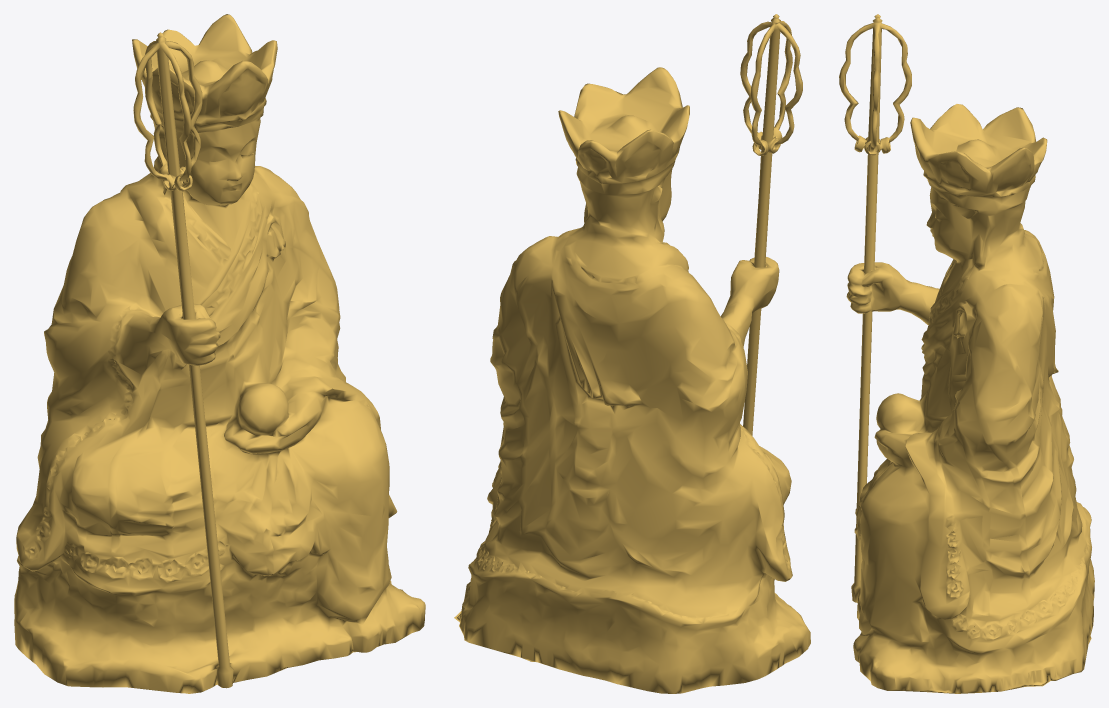
Rendered from center-ksitigarbha-low.glb.
The picture shows the model from 3 angles, left to right: view 1: azimuth 30°, elevation 25°; view 2: azimuth 150°, elevation 25°; view 3: azimuth 270°, elevation 25°; orthographic projection. The views are drawn at different scales.
Parts seen in each view (by area): view 1: Dia_Tang_Center; view 2: Dia_Tang_Center; view 3: Dia_Tang_Center.
Boxes of the visible parts, x1,y1,x2,y2 form: Dia_Tang_Center: (14,14,425,693); Dia_Tang_Center: (454,14,810,693); Dia_Tang_Center: (839,14,1094,693).
Size of the model in its own units: 2.11 by 3.75 by 1.54.
